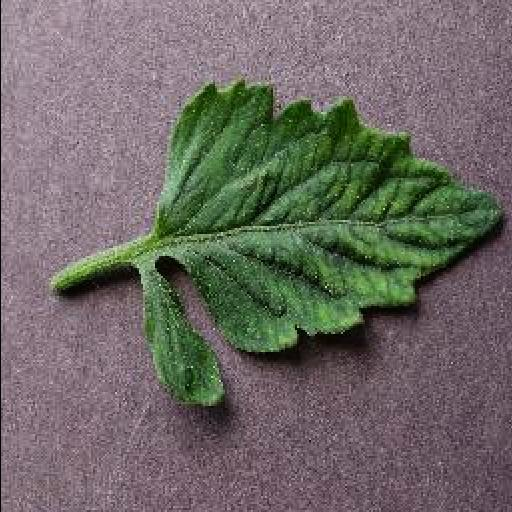Mosaic Virus: (156, 81, 506, 355)
